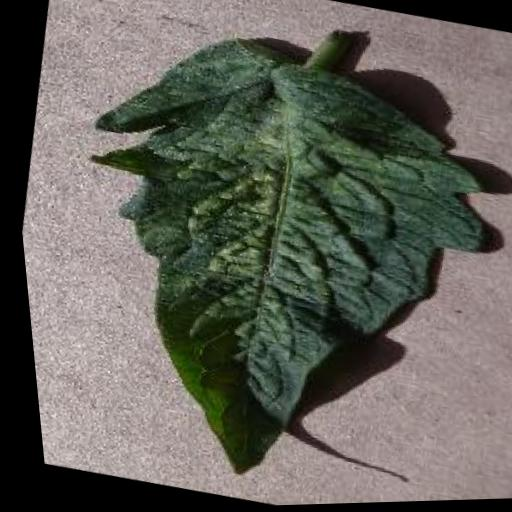Spider Mites: (16, 2, 512, 512)
